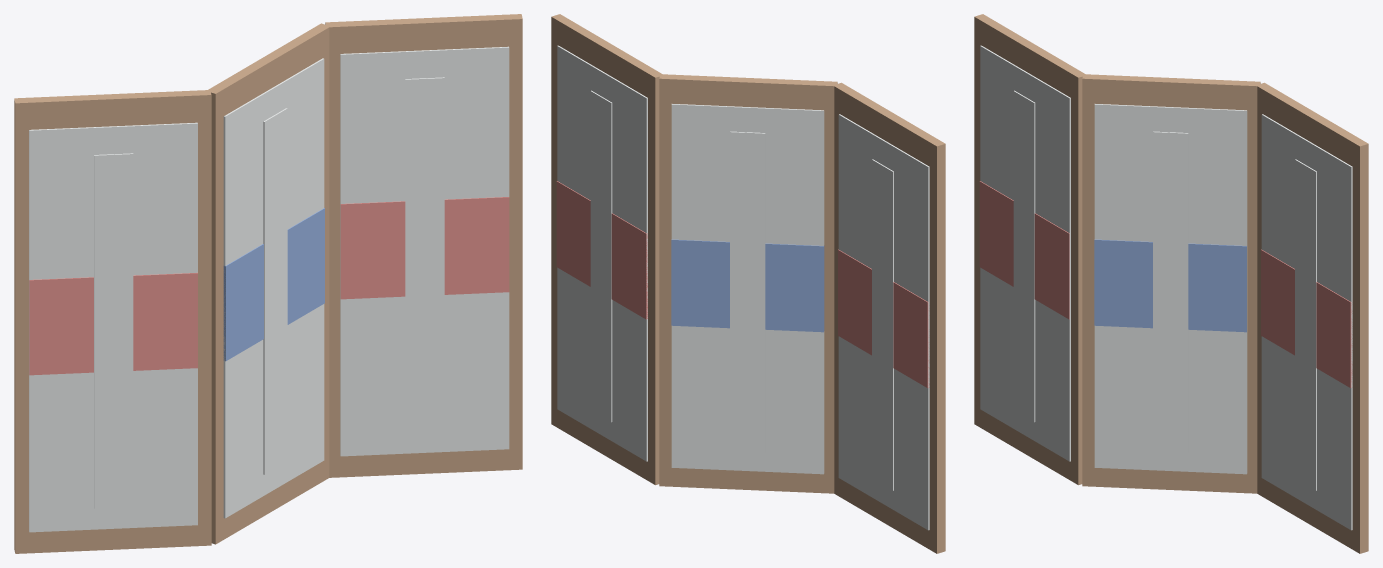
Rendered from screenDivider.glb.
The picture shows the model from 3 angles, left to right: view 1: azimuth 30°, elevation 25°; view 2: azimuth 150°, elevation 25°; view 3: azimuth 330°, elevation 25°; orthographic projection. The views are drawn at different scales.
Parts seen in each view (by area): view 1: screenDivider; view 2: screenDivider; view 3: screenDivider.
Part boxes in pixels (x1,y1,x2,y2): screenDivider: (14, 14, 522, 553); screenDivider: (551, 14, 945, 553); screenDivider: (974, 14, 1368, 553).
Bounding box in the file's own units: 0.9082 × 0.83 × 0.1532.
